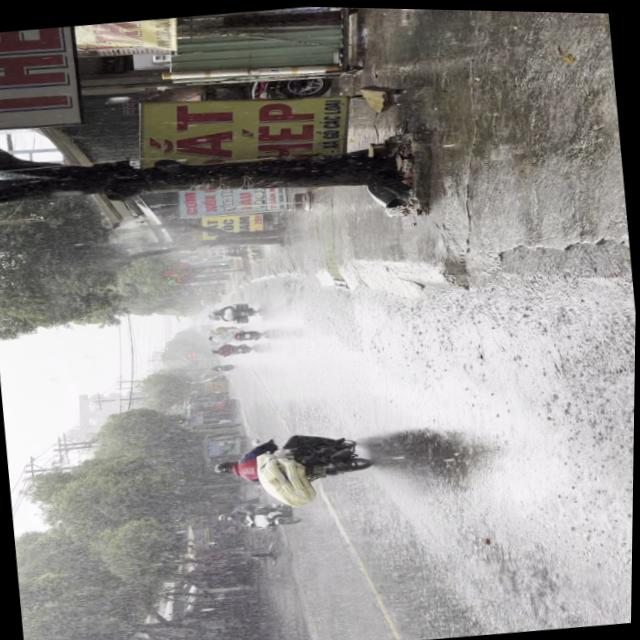helmet: (213, 458, 238, 474)
licenseplate: (208, 420, 376, 514)
